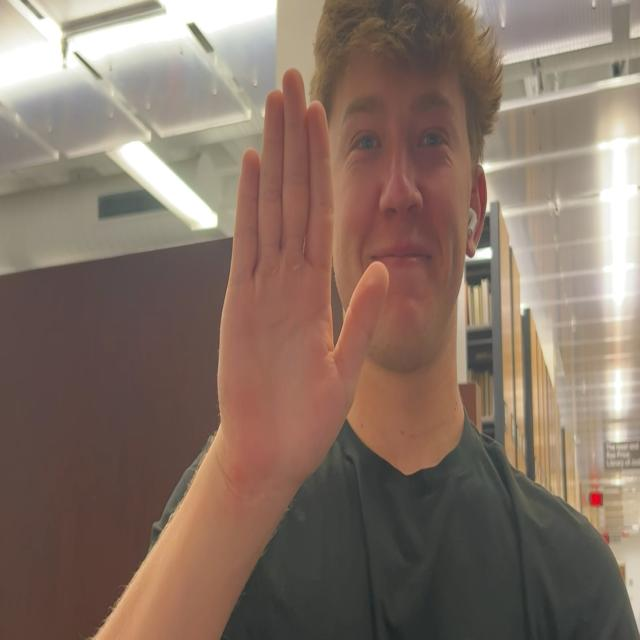Hello: (216, 43, 386, 526)
